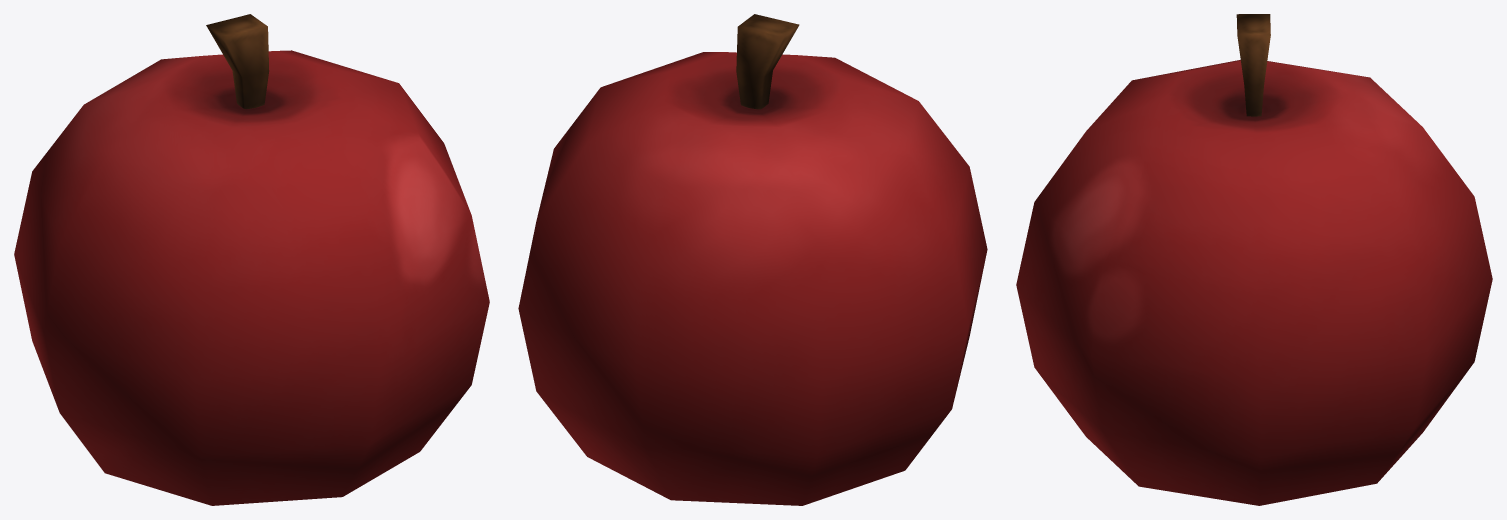
Rendered from apple.glb.
3 views of the same model, side by side, from view 1: azimuth 30°, elevation 25°; view 2: azimuth 150°, elevation 25°; view 3: azimuth 270°, elevation 25° (orthographic). The views are drawn at different scales.
Parts seen in each view (by area): view 1: Apple; view 2: Apple; view 3: Apple.
Boxes of the visible parts, <box> form: Apple: <box>14,14,489,505</box>; Apple: <box>518,14,987,505</box>; Apple: <box>1016,14,1492,505</box>.
Bounding box in the file's own units: 2 × 1.97 × 2.
Materials: 1 (1 with a texture image).
